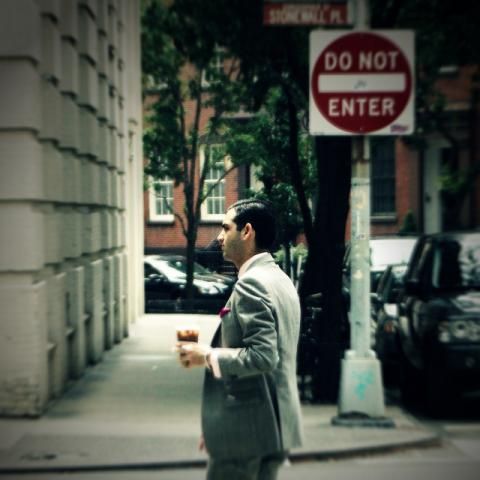car: (397, 231, 479, 420), (342, 233, 426, 338), (144, 254, 240, 310), (371, 262, 409, 396)
